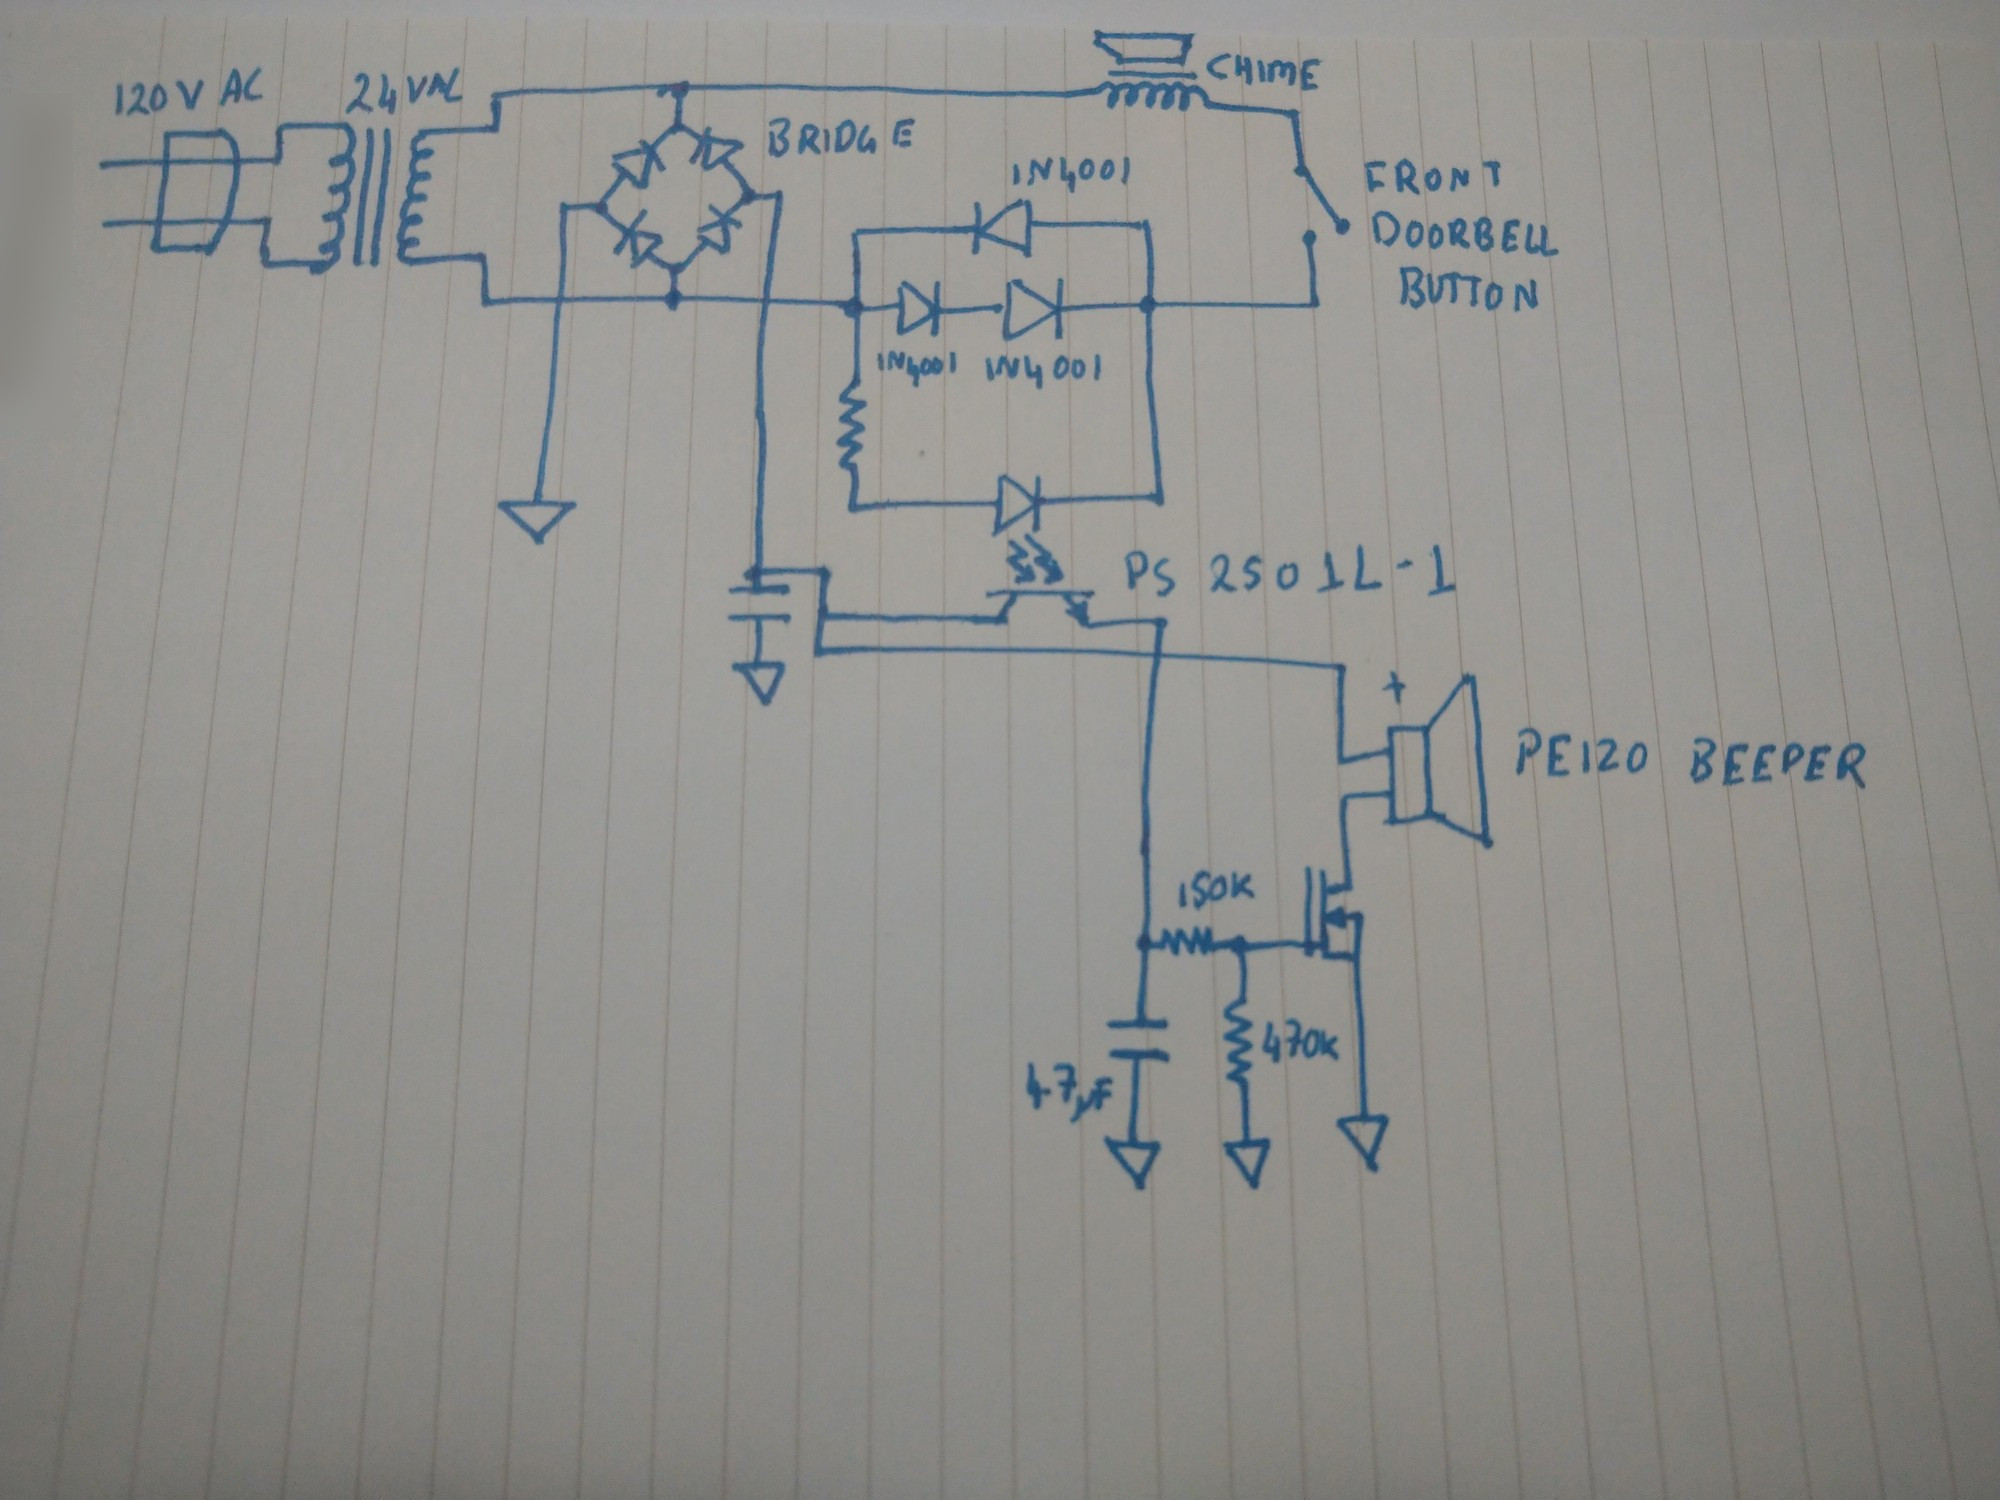capacitor.unpolarized: (1102, 1012, 1184, 1068), (721, 581, 798, 629)
crossover: (751, 287, 781, 317), (543, 288, 572, 317), (1145, 643, 1172, 670)
diode: (998, 273, 1069, 345), (967, 194, 1038, 262), (609, 205, 666, 273), (608, 136, 669, 194), (894, 276, 946, 340), (687, 123, 748, 175), (694, 202, 743, 260)
gnd: (491, 495, 580, 550), (1334, 1112, 1394, 1175), (1101, 1134, 1165, 1193), (728, 660, 794, 714), (1222, 1134, 1274, 1194)
junction: (658, 74, 694, 106), (660, 287, 691, 317), (841, 291, 869, 325), (1134, 291, 1164, 321), (1228, 933, 1260, 960), (742, 558, 772, 581), (735, 183, 761, 210), (591, 192, 613, 222), (806, 640, 833, 663), (1331, 747, 1357, 770), (1328, 659, 1354, 682), (809, 600, 835, 624), (1145, 485, 1170, 509), (767, 184, 791, 210), (846, 221, 869, 246), (661, 258, 691, 277), (1132, 931, 1156, 955), (816, 559, 838, 583), (1150, 611, 1173, 633), (485, 84, 507, 106), (1332, 789, 1356, 808), (469, 247, 490, 268), (846, 498, 865, 520), (556, 199, 575, 217), (1135, 216, 1156, 233), (477, 291, 494, 310), (258, 211, 276, 230), (269, 151, 285, 172), (260, 255, 277, 273), (1285, 104, 1302, 121), (1306, 295, 1323, 312), (669, 120, 688, 136), (487, 121, 502, 139), (272, 117, 290, 132)
optocoupler: (980, 470, 1104, 633)
resistor: (830, 373, 871, 479), (1219, 994, 1261, 1093), (1157, 925, 1224, 961)
socket: (146, 126, 244, 258)
speaker: (1376, 666, 1504, 856), (1088, 28, 1217, 117)
switch: (1287, 161, 1354, 247)
terminal: (90, 151, 117, 176), (88, 213, 115, 236)
text: (1510, 723, 1876, 794), (1120, 542, 1465, 602), (1369, 210, 1565, 260), (109, 63, 266, 120), (764, 113, 934, 165), (1394, 262, 1546, 318), (1359, 150, 1524, 202), (342, 55, 472, 118), (1014, 1057, 1117, 1125), (1009, 148, 1139, 199), (1203, 49, 1324, 95), (983, 350, 1109, 392), (1172, 862, 1261, 915), (1260, 1015, 1342, 1068), (874, 347, 961, 389)
transformer: (312, 121, 446, 279)
transistor: (1294, 860, 1369, 972)
